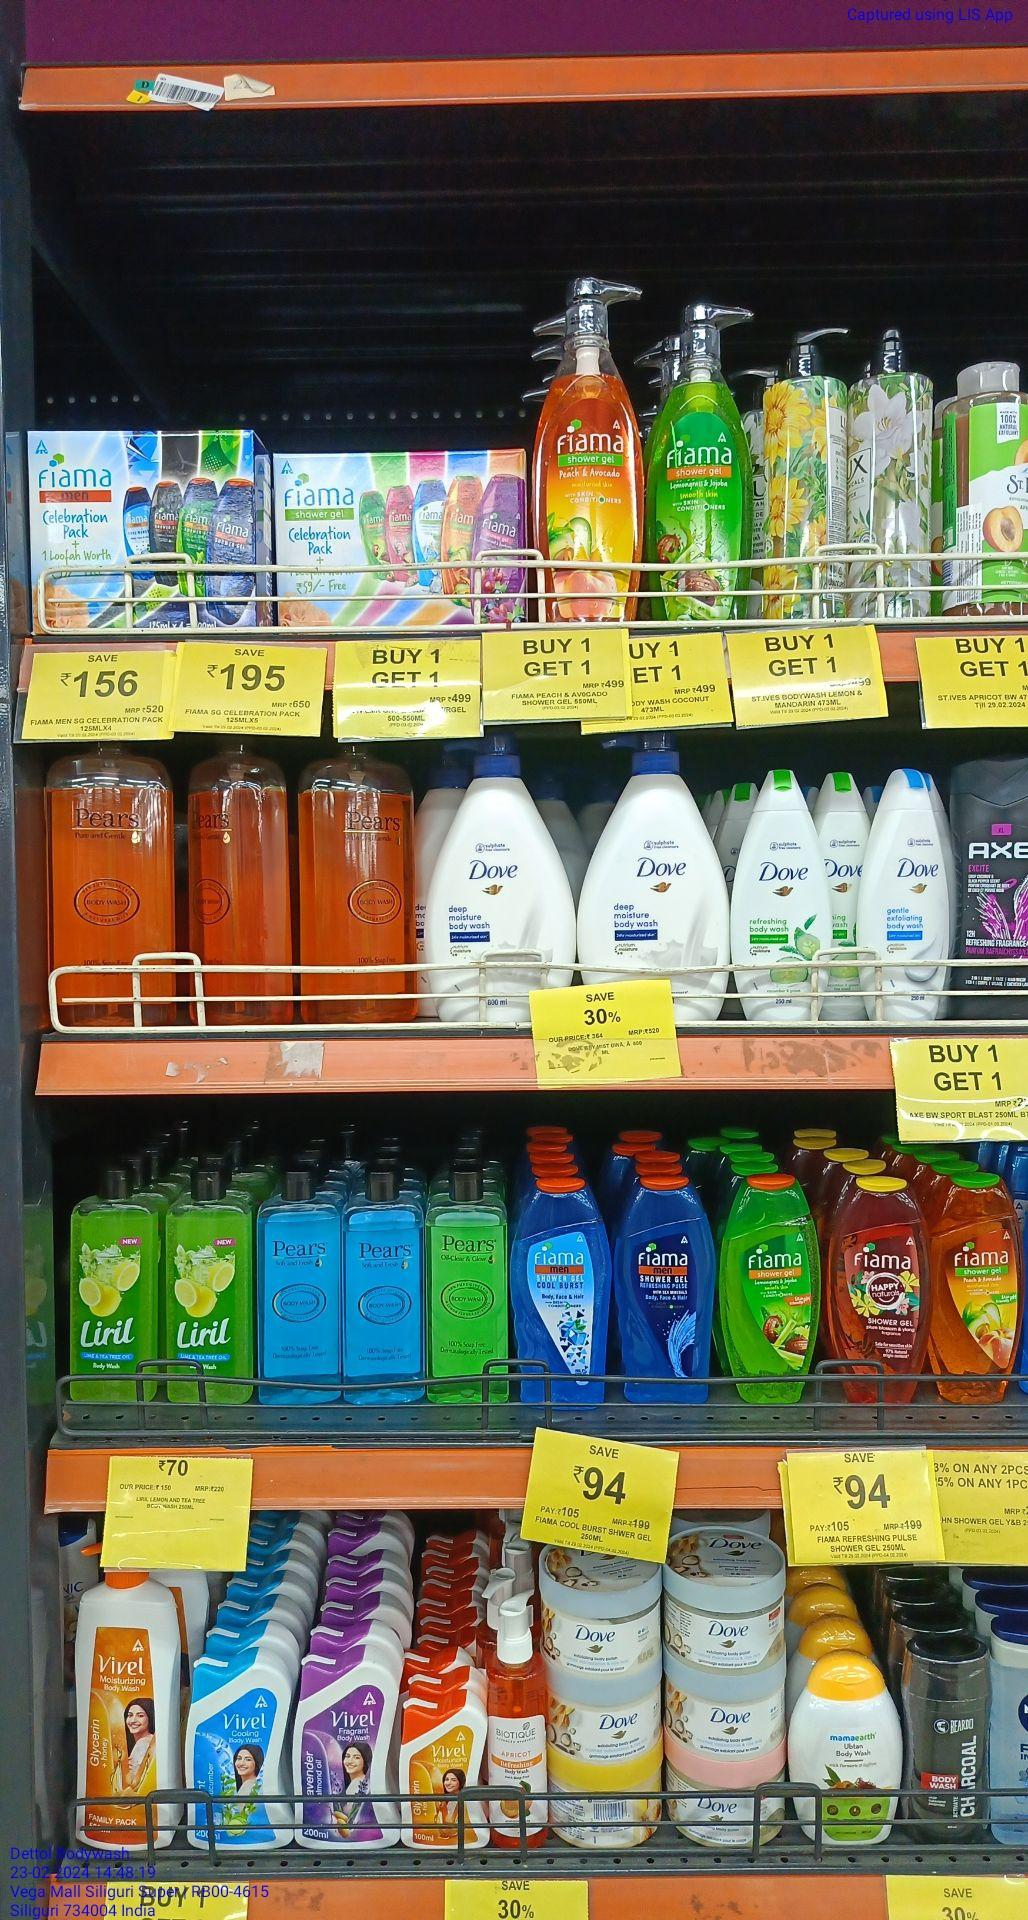Dove_Gentle_Exfoliating_Body_Wash_250ML: (860, 763, 947, 1030)
Dove_Refreshing_Body_Wash_250ML: (739, 768, 826, 1023)
Fiama_Shower_Gel_Lemongrass_and_Jojoba_250ML: (725, 1173, 811, 1406)
Fiama_Shower_Gel_Peach_and_Avocado_250ML: (934, 1154, 1009, 1408)
Liril_Lime_and_Tea_Tree_Oil_Body_Wash_250ML: (164, 1173, 253, 1407), (71, 1168, 157, 1406)
Pears_Pure_Glycerin_and_Lemon_Flower_Extracts_Body_Wash_250ML: (429, 1168, 506, 1411)
Pears_Pure_Glycerin_and_Mint_Extracts_Body_Wash_250ML: (255, 1158, 340, 1404), (344, 1153, 423, 1398)
